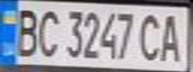2: (78, 7, 103, 60)
3: (60, 6, 84, 60)
4: (100, 8, 121, 60)
7: (115, 8, 139, 61)
A: (157, 10, 187, 63)
B: (9, 5, 42, 57)
C: (33, 4, 63, 58), (136, 9, 166, 62)
